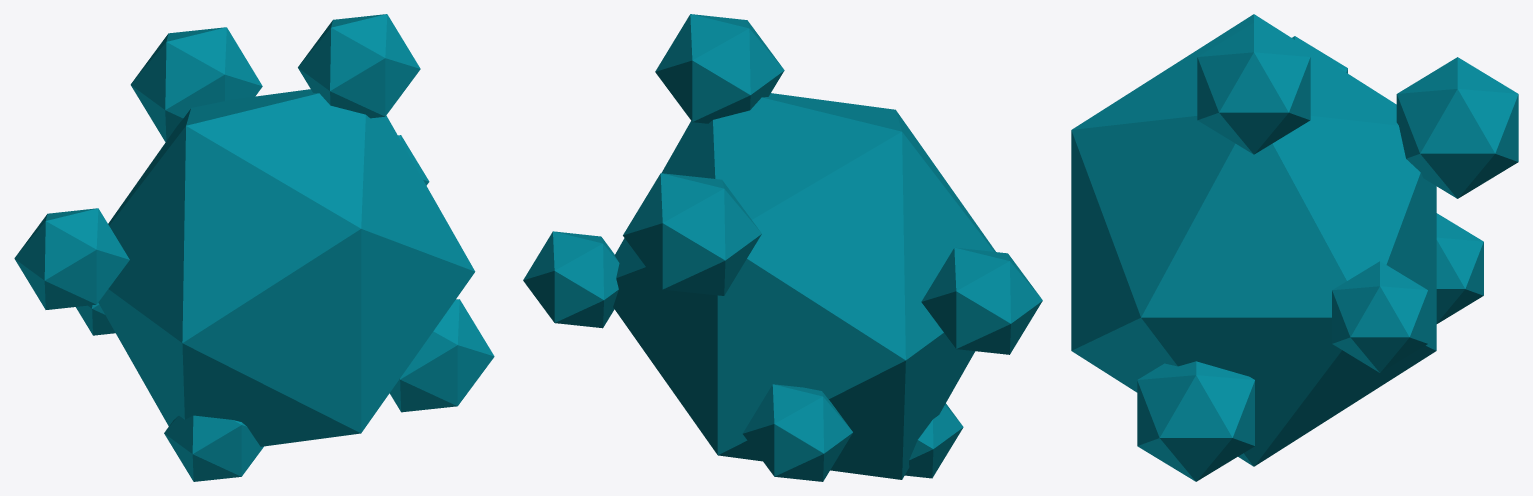
The model's file is bolita-turquesa.glb.
3 views of the same model, side by side, from view 1: azimuth 30°, elevation 25°; view 2: azimuth 150°, elevation 25°; view 3: azimuth 270°, elevation 25° (orthographic). The views are drawn at different scales.
Parts seen in each view (by area): view 1: bolita-gemelo; view 2: bolita-gemelo; view 3: bolita-gemelo.
Part boxes in pixels (x1,y1,x2,y2): bolita-gemelo: (14, 14, 494, 481); bolita-gemelo: (523, 14, 1042, 481); bolita-gemelo: (1071, 14, 1518, 481).
Bounding box in the file's own units: 0.3709 × 0.3355 × 0.3125.
